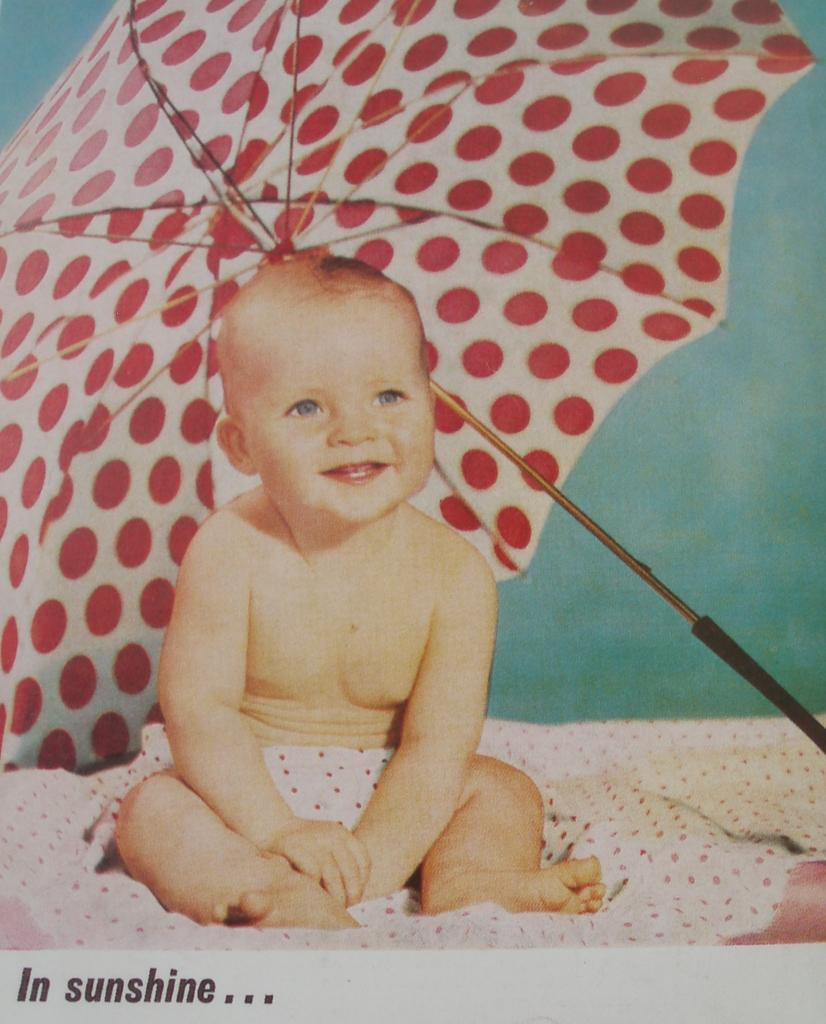Sem Máscara: (243, 292, 437, 523)
